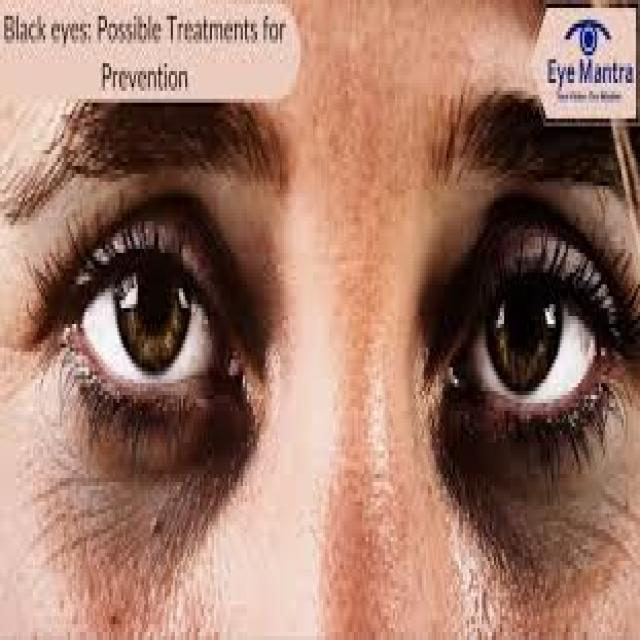Eyes-iris: (104, 246, 195, 382), (482, 293, 570, 390)
